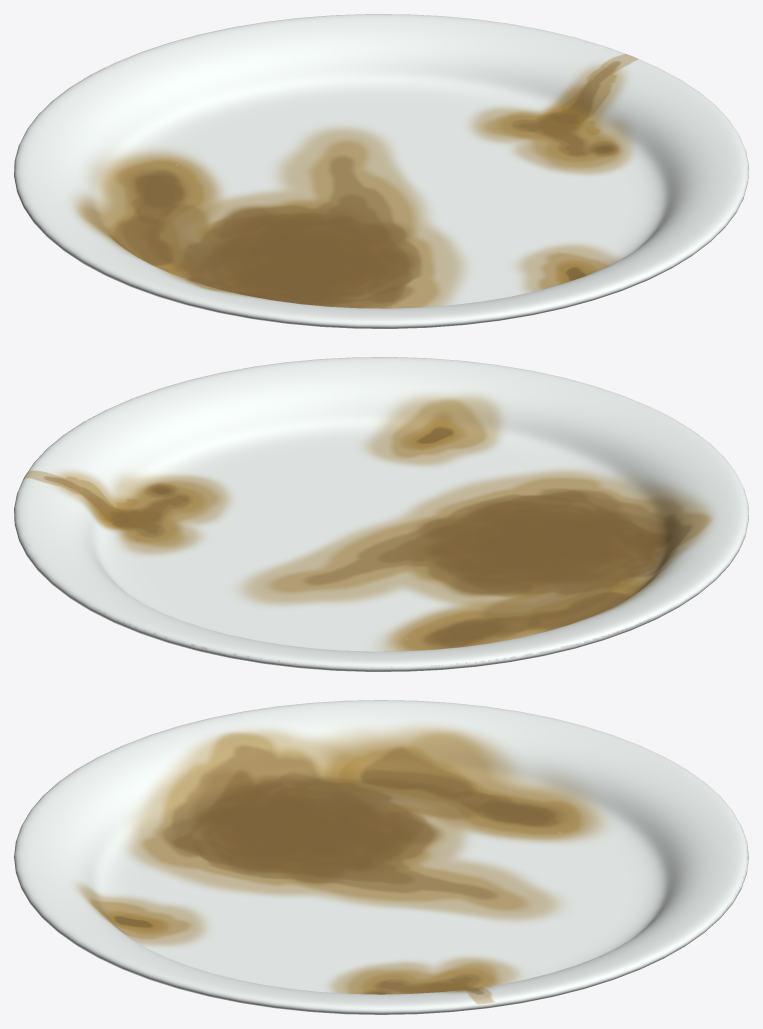
The model's file is PlateT2.fbx.
3 views of the same model, one above another, from view 1: azimuth 30°, elevation 25°; view 2: azimuth 150°, elevation 25°; view 3: azimuth 270°, elevation 25° (orthographic).
Visible parts, largest first — view 1: StandardPlate; view 2: StandardPlate; view 3: StandardPlate.
Part boxes in pixels (x1,y1,x2,y2): StandardPlate: (14, 14, 748, 328); StandardPlate: (14, 357, 748, 671); StandardPlate: (14, 700, 748, 1014).
Size of the model in its own units: 537 by 36.46 by 537.
